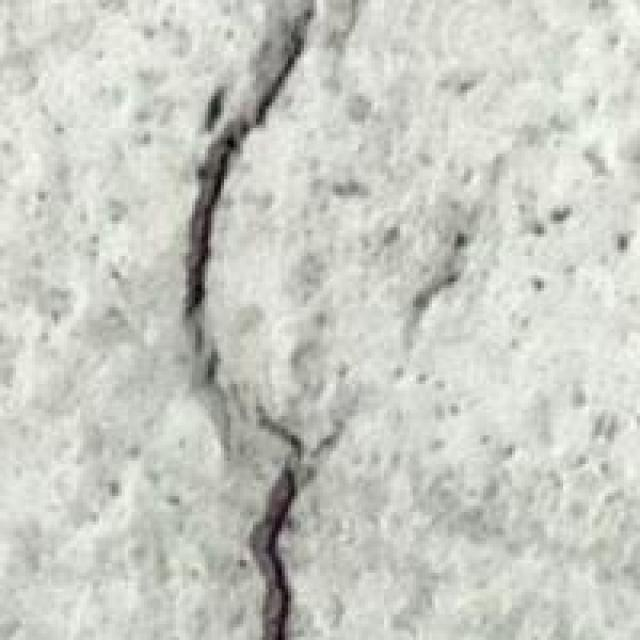Crack: (118, 0, 381, 637)
